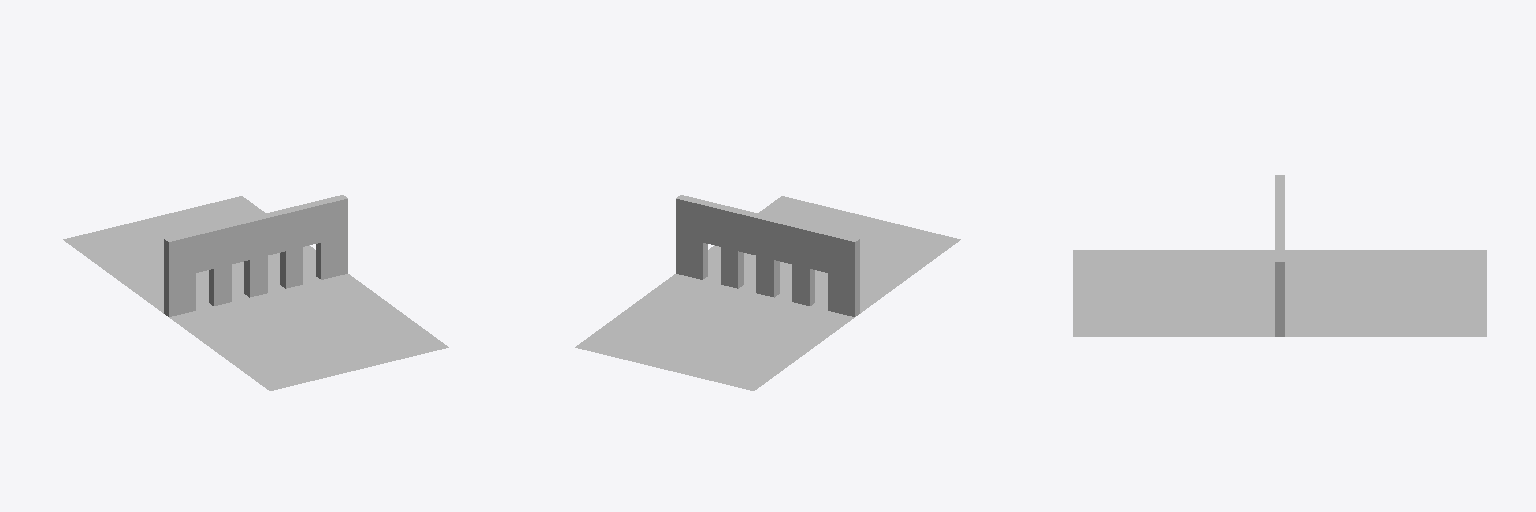
The model's file is FourDoors.obj.
3 renders of one model, left to right at view 1: azimuth 30°, elevation 25°; view 2: azimuth 150°, elevation 25°; view 3: azimuth 270°, elevation 25°, orthographic.
Visible parts, largest first — view 1: Plane.002, Cube.008; view 2: Plane.002, Cube.008; view 3: Plane.002, Cube.008.
Part boxes in pixels (left/top/right/bottom): Plane.002: left=63, top=196, right=448, bottom=390; Cube.008: left=164, top=195, right=347, bottom=316; Plane.002: left=575, top=196, right=960, bottom=390; Cube.008: left=676, top=195, right=859, bottom=316; Plane.002: left=1073, top=250, right=1486, bottom=336; Cube.008: left=1275, top=175, right=1284, bottom=336.
Size of the model in its own units: 10 by 4 by 20.